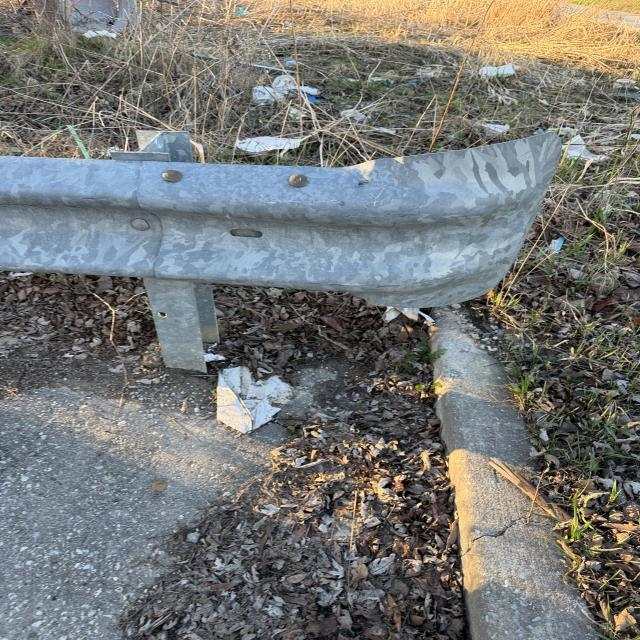Guard rail: (15, 138, 552, 310)
